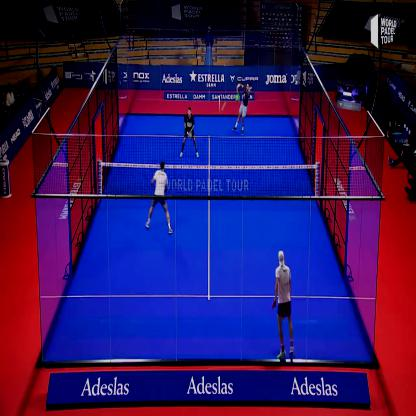ball: (220, 95, 228, 115)
